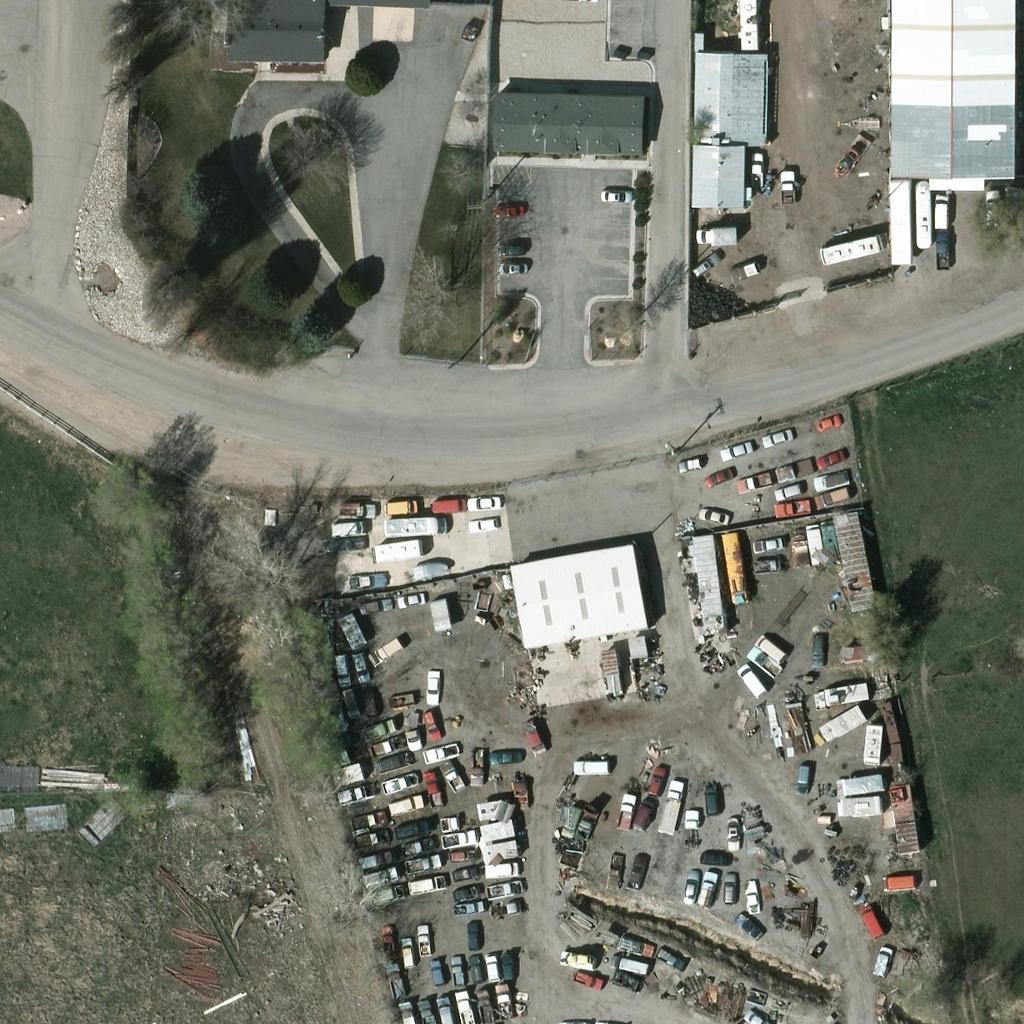car: (738, 149, 772, 183), (769, 167, 803, 201), (596, 178, 630, 212), (974, 188, 1008, 222), (924, 191, 958, 225), (493, 192, 527, 226), (925, 229, 959, 263), (495, 232, 529, 266), (495, 251, 529, 285), (731, 251, 765, 285), (808, 405, 842, 439), (761, 421, 795, 455), (721, 432, 755, 466), (816, 437, 850, 471), (674, 445, 708, 479), (770, 455, 804, 489), (702, 459, 736, 493), (810, 459, 844, 493), (733, 464, 767, 498), (773, 474, 807, 508), (815, 479, 849, 513), (465, 485, 499, 519), (387, 488, 421, 522), (433, 489, 467, 523), (772, 490, 806, 524), (342, 492, 376, 526), (696, 496, 730, 530), (464, 506, 498, 540), (334, 509, 368, 543), (753, 525, 787, 559), (330, 526, 364, 560), (347, 563, 381, 597), (393, 582, 427, 616), (353, 589, 387, 623), (748, 628, 782, 662), (801, 629, 835, 663), (367, 636, 401, 670), (741, 641, 775, 675), (342, 646, 376, 680), (323, 652, 357, 686), (731, 661, 765, 695), (416, 665, 450, 699), (351, 685, 385, 719), (334, 687, 368, 721), (412, 706, 446, 740), (363, 711, 397, 745), (369, 729, 403, 763), (422, 736, 456, 770), (489, 738, 523, 772), (570, 749, 604, 783), (459, 753, 493, 787), (433, 757, 467, 791), (785, 759, 819, 793), (384, 765, 418, 799), (415, 769, 449, 803), (340, 775, 374, 809), (694, 778, 728, 812), (391, 785, 425, 819), (608, 790, 642, 824), (628, 793, 662, 827), (353, 801, 387, 835), (396, 810, 430, 844), (715, 815, 749, 849), (356, 820, 390, 854), (444, 820, 478, 854), (401, 828, 435, 862), (444, 837, 478, 871), (360, 843, 394, 877), (409, 844, 443, 878), (454, 853, 488, 887), (597, 854, 631, 888), (621, 855, 655, 889), (366, 858, 400, 892), (875, 865, 909, 899), (410, 866, 444, 900), (688, 869, 722, 903), (673, 871, 707, 905), (710, 874, 744, 908), (447, 876, 481, 910), (372, 877, 406, 911), (735, 880, 769, 914), (453, 889, 487, 923), (850, 898, 884, 932), (729, 908, 763, 942), (454, 917, 488, 951), (405, 921, 439, 955), (370, 922, 404, 956), (619, 928, 653, 962), (389, 935, 423, 969), (654, 943, 688, 977), (865, 943, 899, 977), (473, 948, 507, 982), (490, 949, 524, 983), (438, 952, 472, 986), (439, 952, 473, 986), (456, 952, 490, 986), (420, 955, 454, 989), (376, 958, 410, 992), (571, 963, 605, 997), (486, 979, 520, 1013), (465, 984, 499, 1018), (446, 987, 480, 1021), (407, 995, 441, 1024), (428, 996, 462, 1024), (389, 1000, 423, 1024), (738, 1002, 772, 1024)
